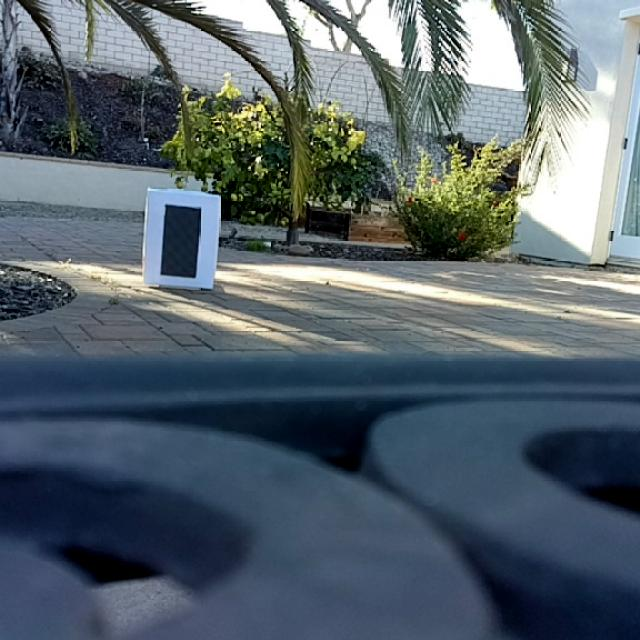led: (160, 204, 202, 280)
